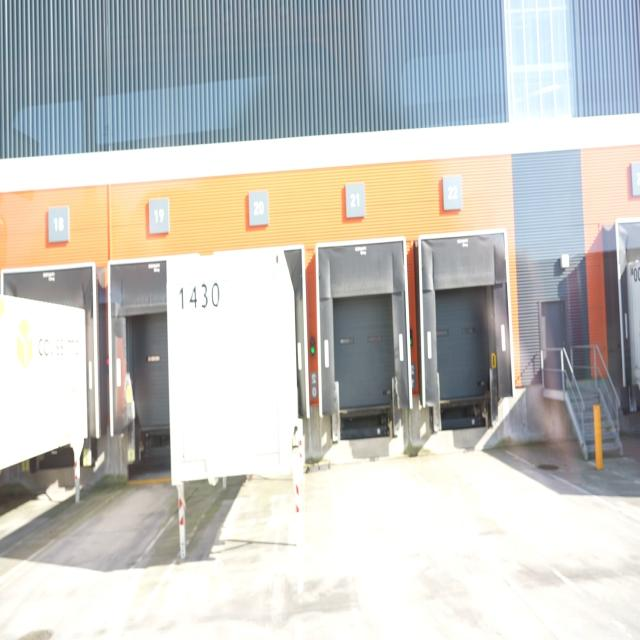Code: (175, 276, 225, 314)
